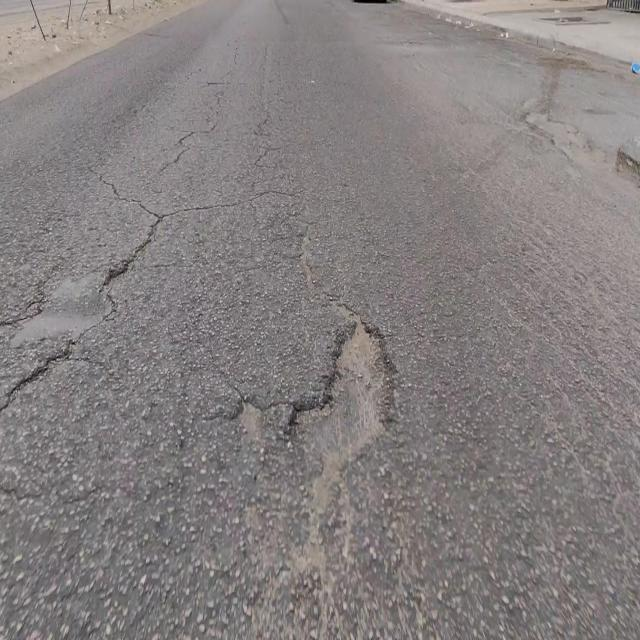Pothole: (285, 315, 393, 471)
